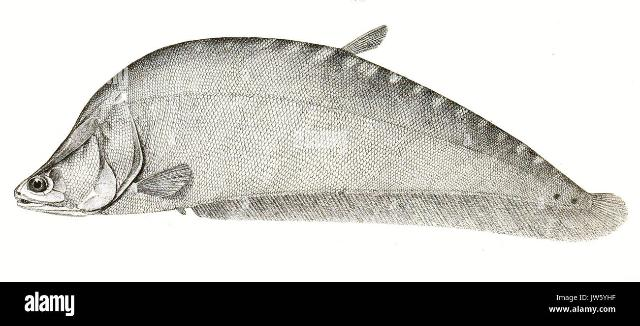Mulut: (11, 180, 52, 220)
Sirip Dada: (136, 160, 198, 202)
Sirip Punggung: (332, 20, 391, 66)
